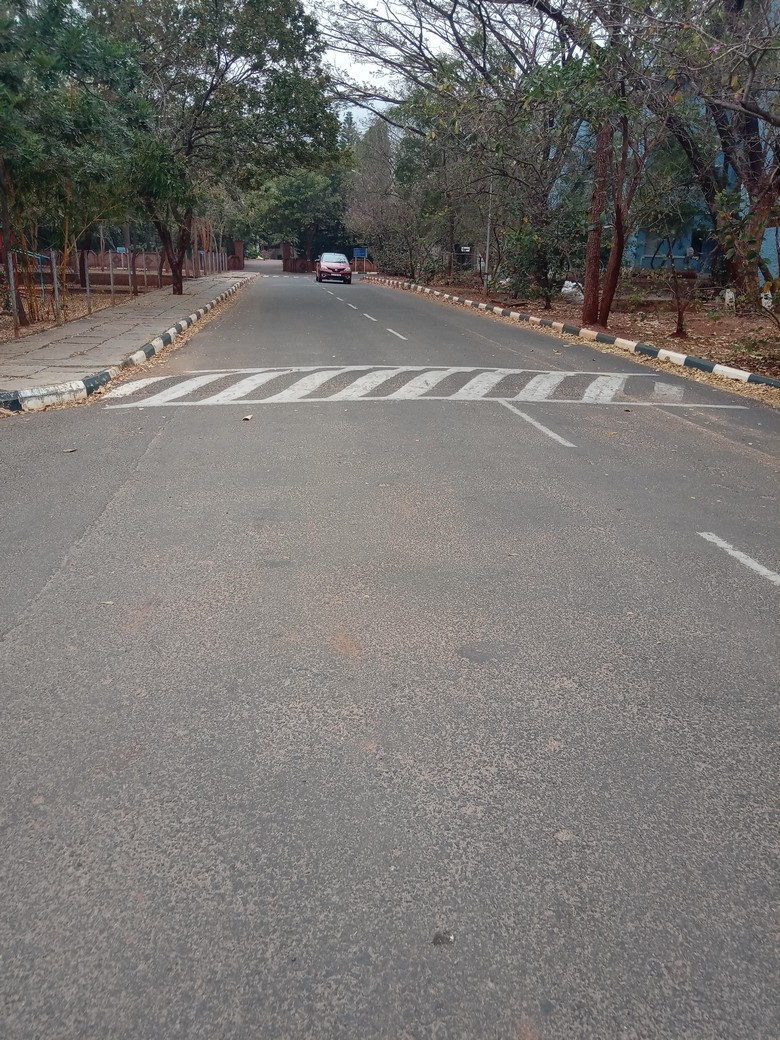bump: (95, 365, 757, 407)
